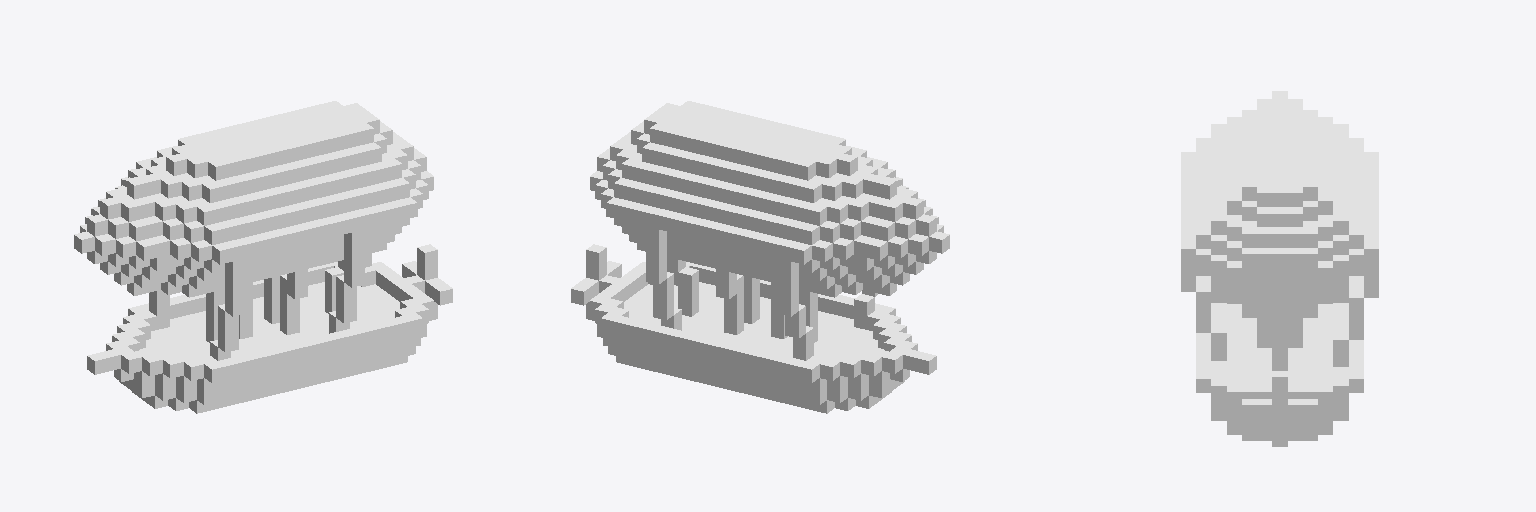
The model's file is Zepplin_Mod.obj.
3 views of the same model, side by side, from view 1: azimuth 30°, elevation 25°; view 2: azimuth 150°, elevation 25°; view 3: azimuth 270°, elevation 25° (orthographic).
Parts seen in each view (by area): view 1: object 1; view 2: object 1; view 3: object 1.
Boxes of the visible parts, x1,y1,x2,y2 form: object 1: [74, 101, 452, 413]; object 1: [571, 101, 949, 413]; object 1: [1181, 91, 1378, 446].
Size of the model in its own units: 2.7 by 1.7 by 1.3.